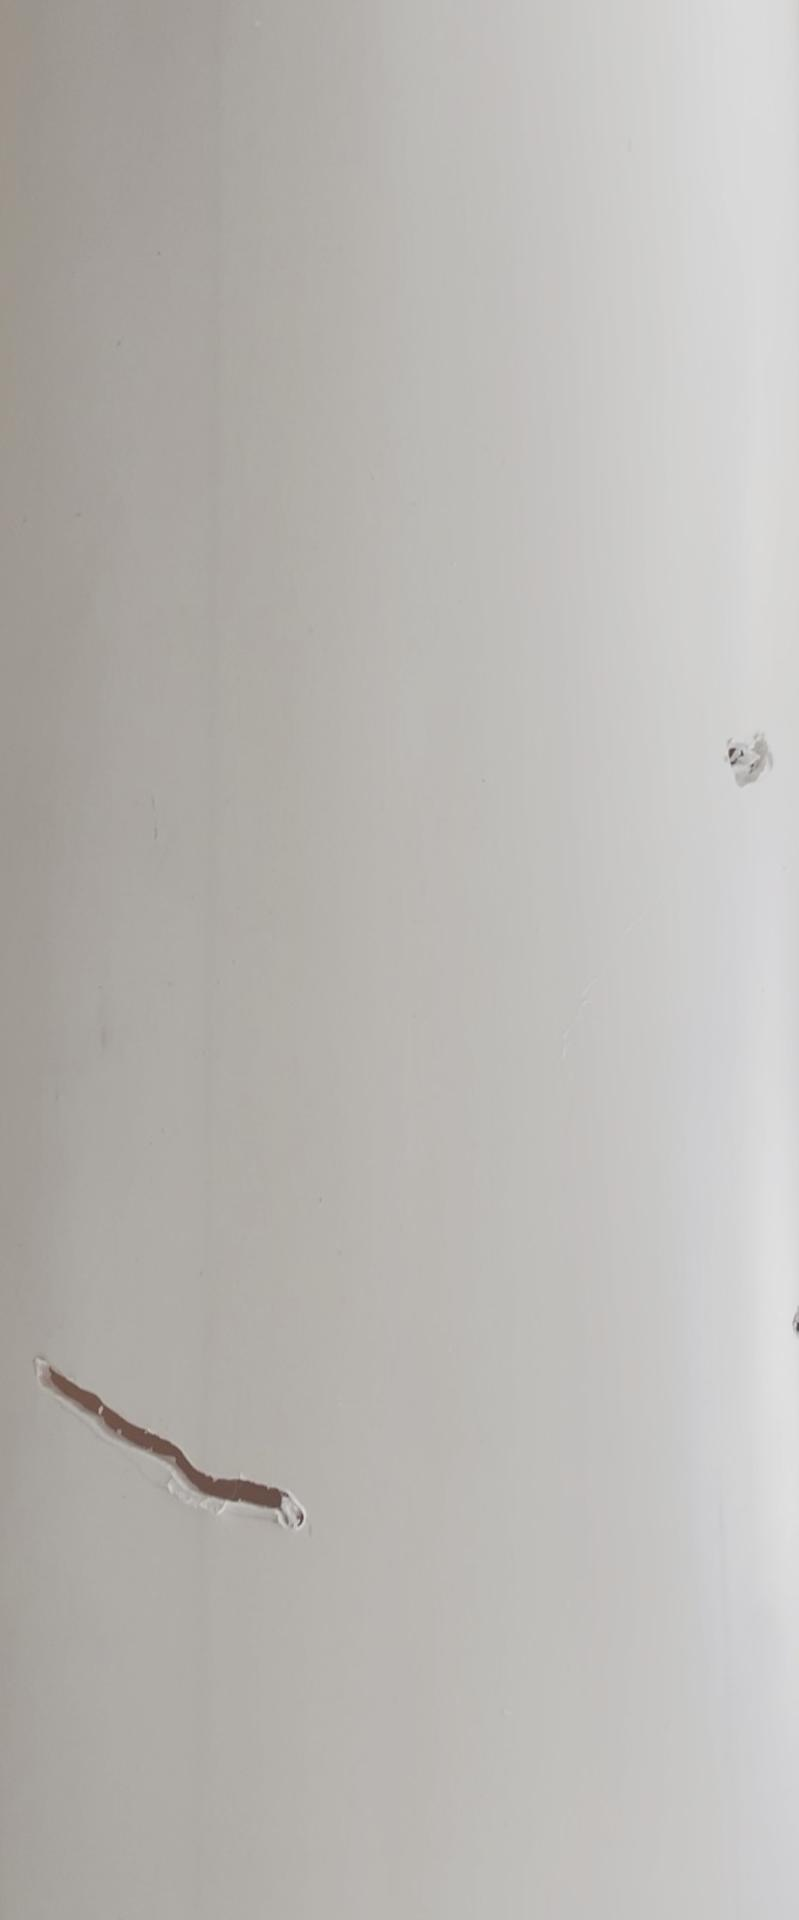fengxi: (42, 1338, 312, 1531)
kongdong: (712, 729, 775, 797)
